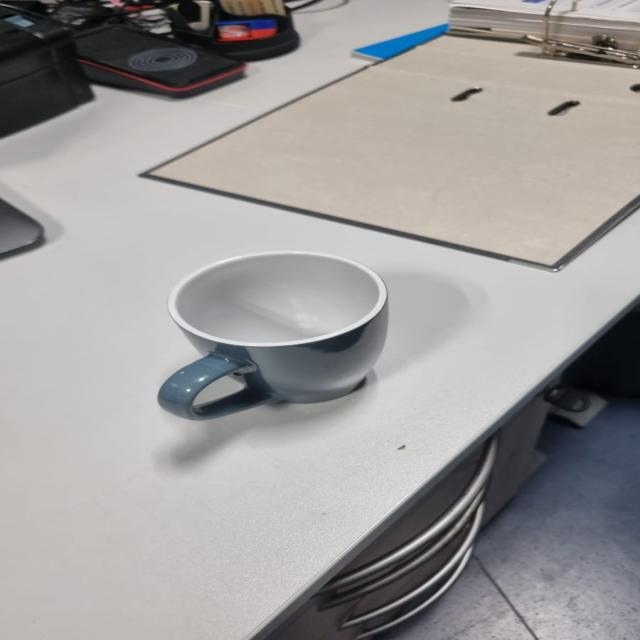Cup: (159, 252, 388, 420)
